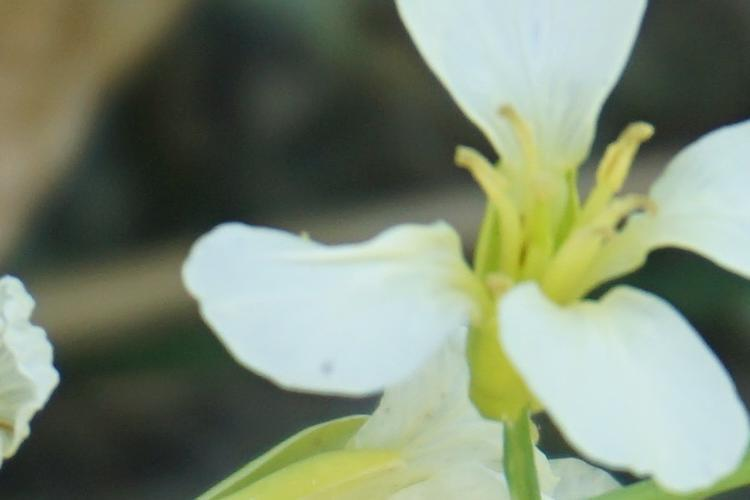white: (173, 7, 750, 484)
